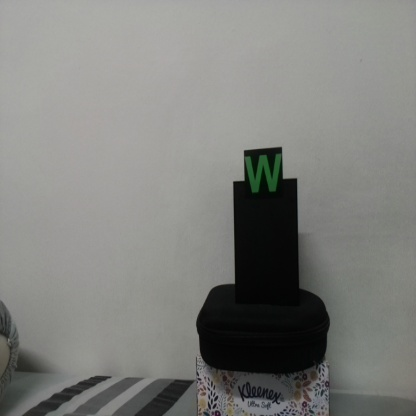id_12: (245, 150, 283, 201)
